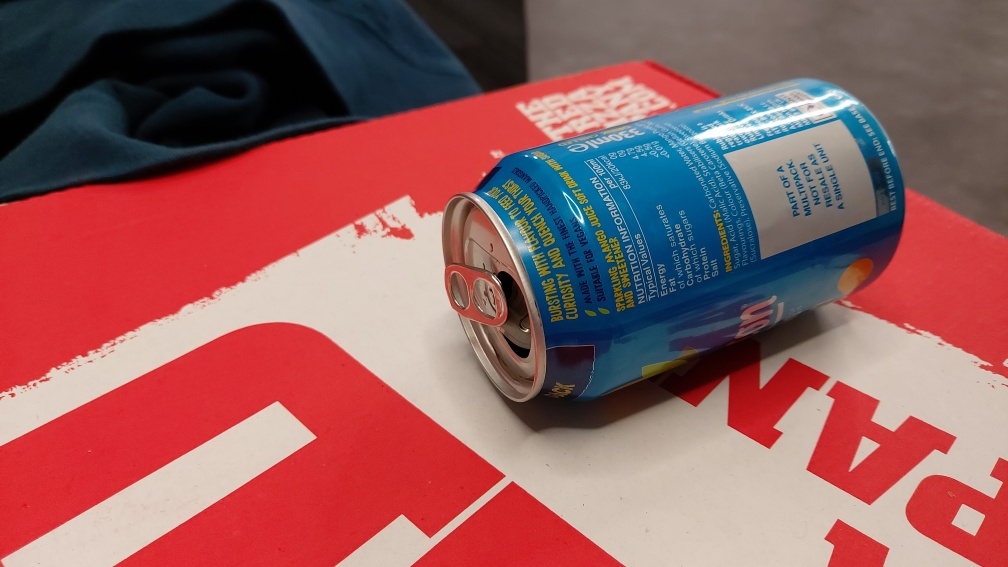can_blue: (408, 37, 972, 448)
